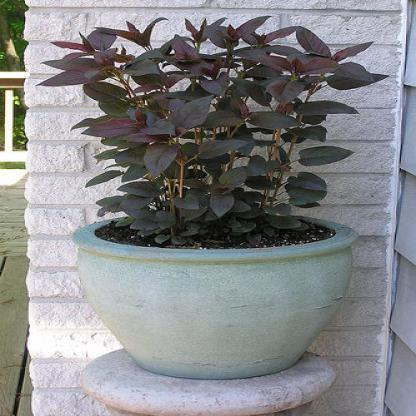pottedplant: (34, 17, 391, 380)
